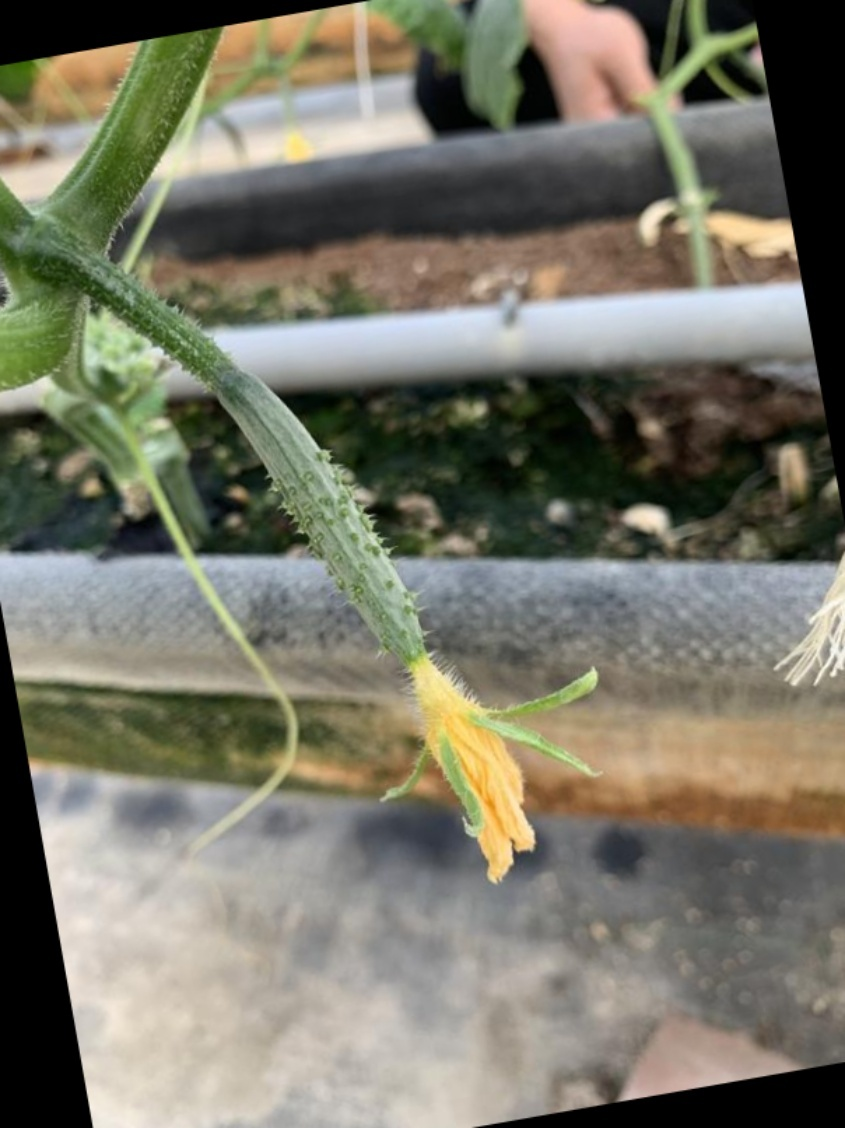bear: (174, 324, 606, 900)
